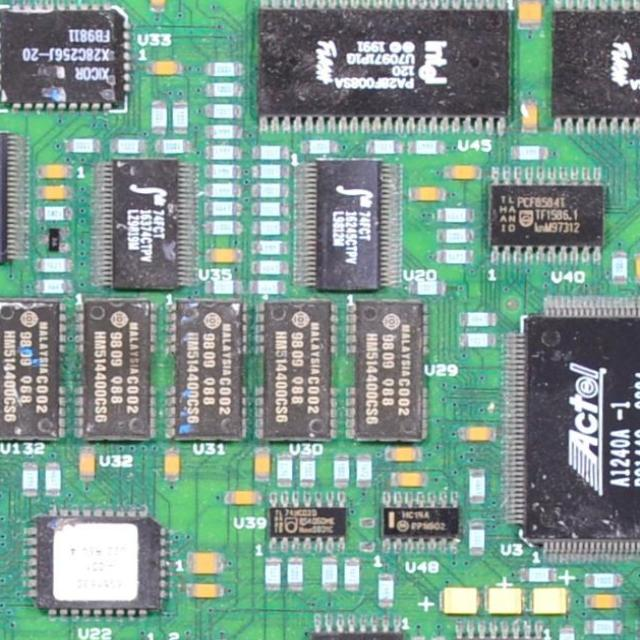IC: (258, 0, 507, 115), (522, 319, 640, 546), (0, 11, 128, 112), (345, 301, 422, 437), (102, 161, 184, 286), (557, 9, 640, 117), (80, 299, 143, 438), (171, 300, 235, 436), (40, 524, 148, 604), (313, 164, 382, 288), (257, 304, 322, 430), (0, 302, 51, 438), (494, 188, 596, 243), (271, 509, 341, 539), (386, 514, 452, 536), (313, 629, 399, 640), (0, 136, 5, 254), (453, 638, 541, 640)
capacitor: (581, 590, 615, 606), (523, 2, 539, 26), (195, 556, 218, 572), (82, 449, 94, 475), (414, 188, 441, 199), (388, 451, 417, 461), (254, 454, 265, 480), (524, 106, 539, 125), (461, 431, 492, 440), (168, 452, 180, 475), (231, 490, 254, 502), (152, 60, 175, 71), (402, 472, 423, 484), (452, 166, 472, 178), (631, 254, 640, 280), (211, 250, 232, 260), (195, 585, 215, 595), (152, 0, 164, 11), (50, 167, 64, 175), (47, 188, 61, 196)
resistor: (470, 468, 485, 502), (586, 570, 621, 584), (114, 138, 144, 152), (473, 524, 487, 553), (276, 457, 290, 484), (367, 140, 396, 153), (40, 204, 65, 219), (155, 140, 184, 152), (511, 148, 542, 159), (468, 308, 490, 323), (250, 283, 280, 294), (45, 469, 59, 492), (303, 456, 315, 482), (353, 458, 366, 482), (154, 106, 166, 132), (212, 148, 236, 161), (213, 129, 238, 141), (67, 140, 91, 152), (40, 278, 64, 290), (264, 563, 277, 585), (594, 620, 616, 633), (26, 466, 36, 494), (262, 259, 282, 273), (439, 230, 466, 240), (322, 564, 334, 586), (446, 250, 468, 262), (216, 207, 236, 220), (336, 458, 346, 483), (413, 141, 438, 151), (288, 564, 299, 586), (214, 105, 236, 116), (174, 105, 184, 129), (264, 167, 282, 180), (215, 185, 235, 196), (611, 255, 621, 277), (40, 262, 61, 272), (463, 335, 486, 344), (523, 571, 546, 580), (445, 209, 468, 218), (211, 66, 236, 74), (258, 148, 278, 158), (347, 561, 354, 586), (264, 204, 278, 216), (266, 221, 280, 233), (312, 144, 332, 152), (212, 280, 228, 290), (416, 283, 437, 290), (212, 171, 232, 178), (382, 578, 388, 600), (216, 86, 232, 94), (264, 186, 278, 194), (218, 226, 234, 233), (264, 245, 280, 252), (561, 629, 569, 640)
